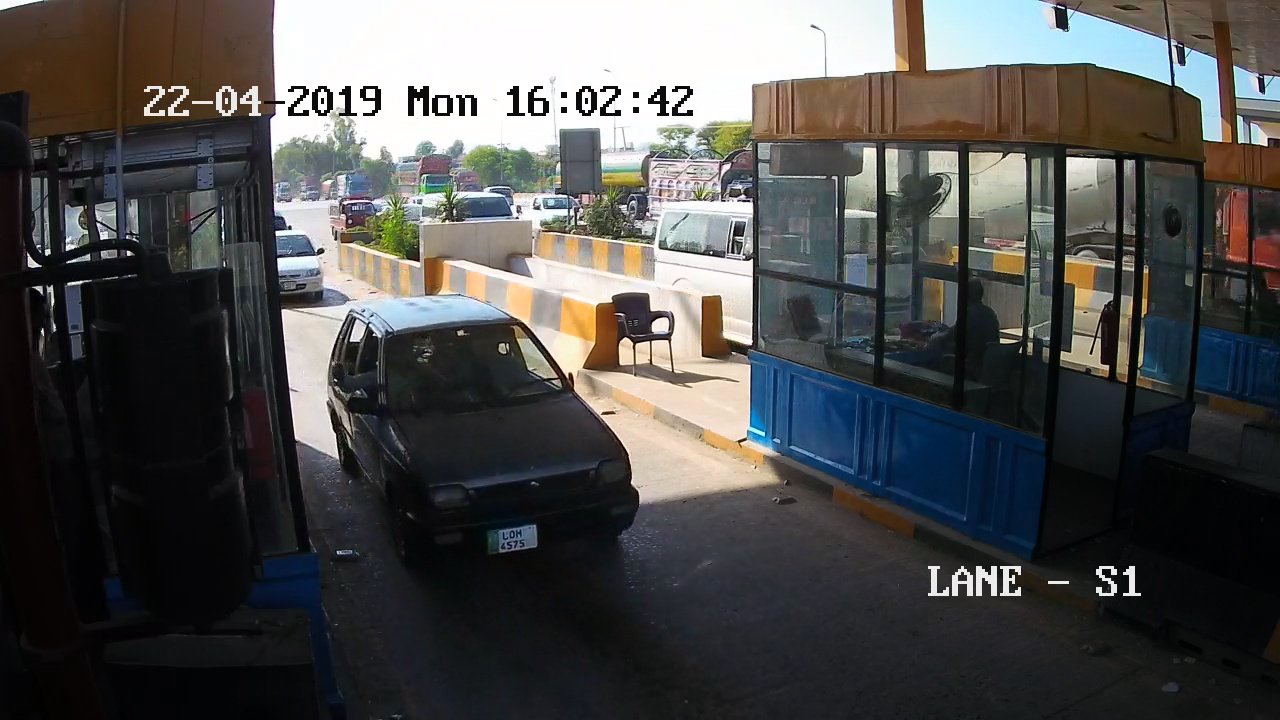Number Plate (Car): (486, 523, 541, 555)
